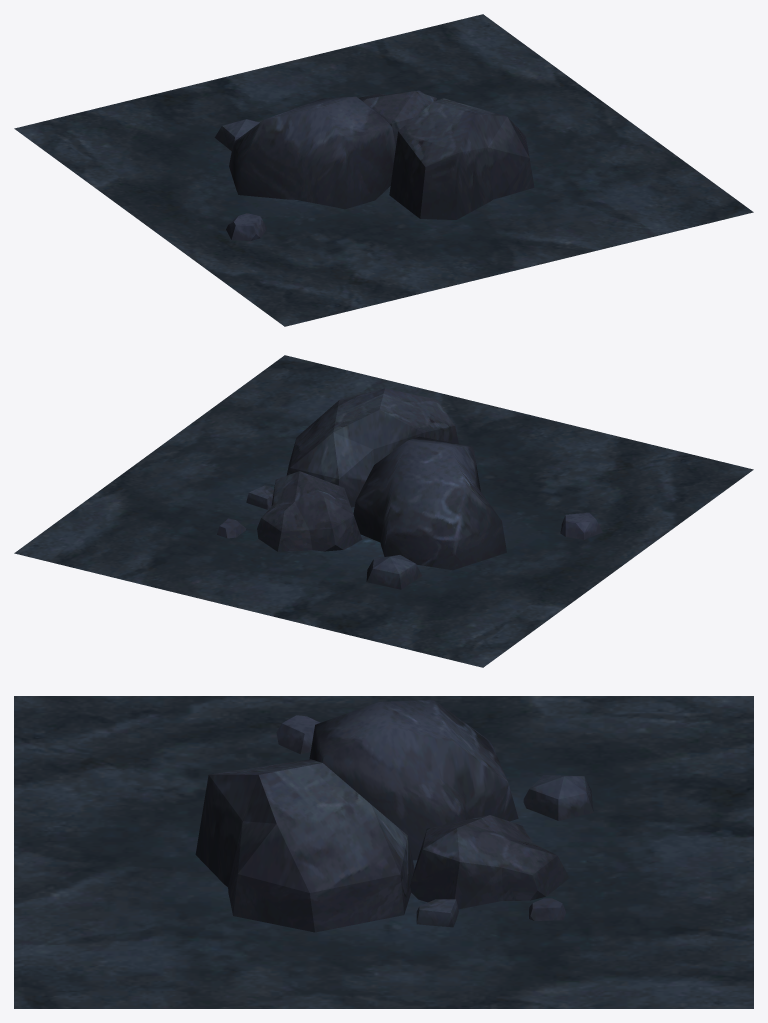
Rendered from mine_rubble_05.fbx.
3 renders of one model, top to bottom at view 1: azimuth 30°, elevation 25°; view 2: azimuth 150°, elevation 25°; view 3: azimuth 270°, elevation 25°, orthographic. The views are drawn at different scales.
Visible parts, largest first — view 1: mine_rubble_05-0; view 2: mine_rubble_05-0; view 3: mine_rubble_05-0.
Boxes of the visible parts, x1=… form: mine_rubble_05-0: x1=14, y1=14, x2=753, y2=326; mine_rubble_05-0: x1=14, y1=355, x2=753, y2=667; mine_rubble_05-0: x1=14, y1=696, x2=753, y2=1008.
Bounding box in the file's own units: 4 × 0.6912 × 4.
